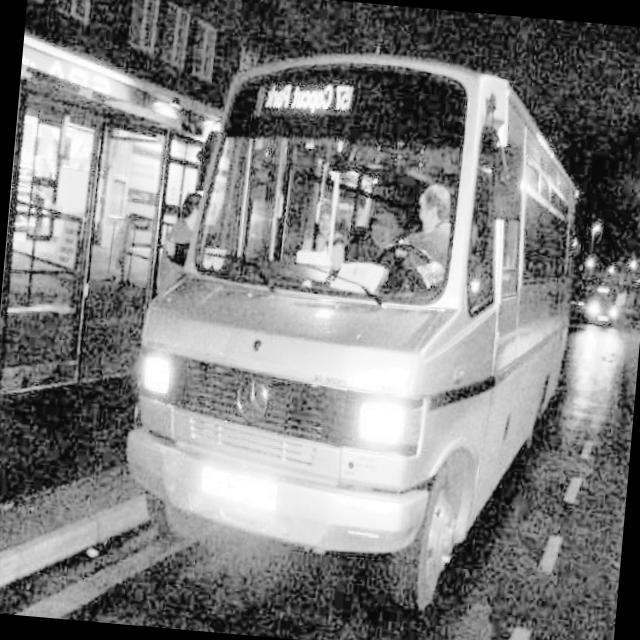Bus: (109, 36, 602, 598)
Car: (570, 241, 640, 415)
